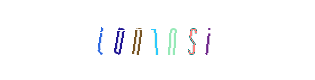1: (115, 0, 195, 80)
I: (152, 0, 232, 80)
L: (87, 0, 167, 80)
N: (105, 0, 185, 80), (117, 0, 197, 80)
O: (97, 0, 177, 80)
S: (133, 0, 213, 80)
